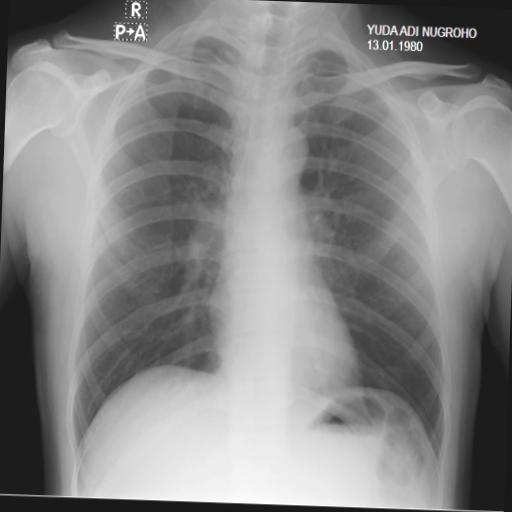normal: (65, 11, 467, 482)
